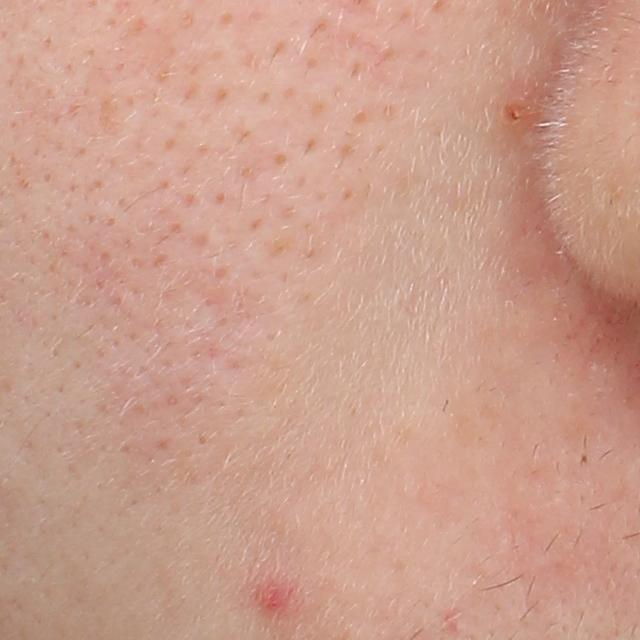papule: (260, 583, 289, 612)
